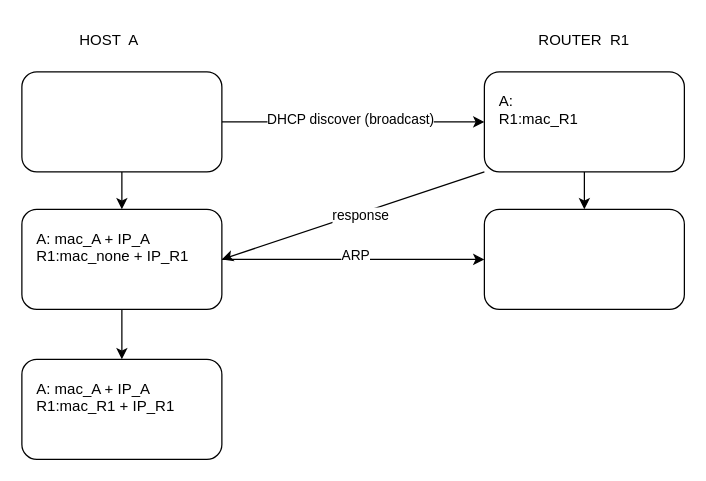
Image size: 706x481. Some labels were removed from this diagram. Each missing label, with the box of its shape:
A: mac_A + IP_none: (21, 71, 222, 172)
A:mac_A + IP_A R1:mac_R1: (483, 208, 684, 309)
